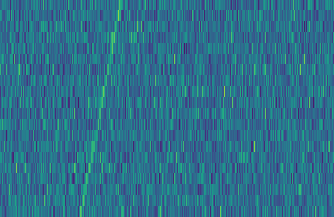signal: (75, 0, 125, 217)
